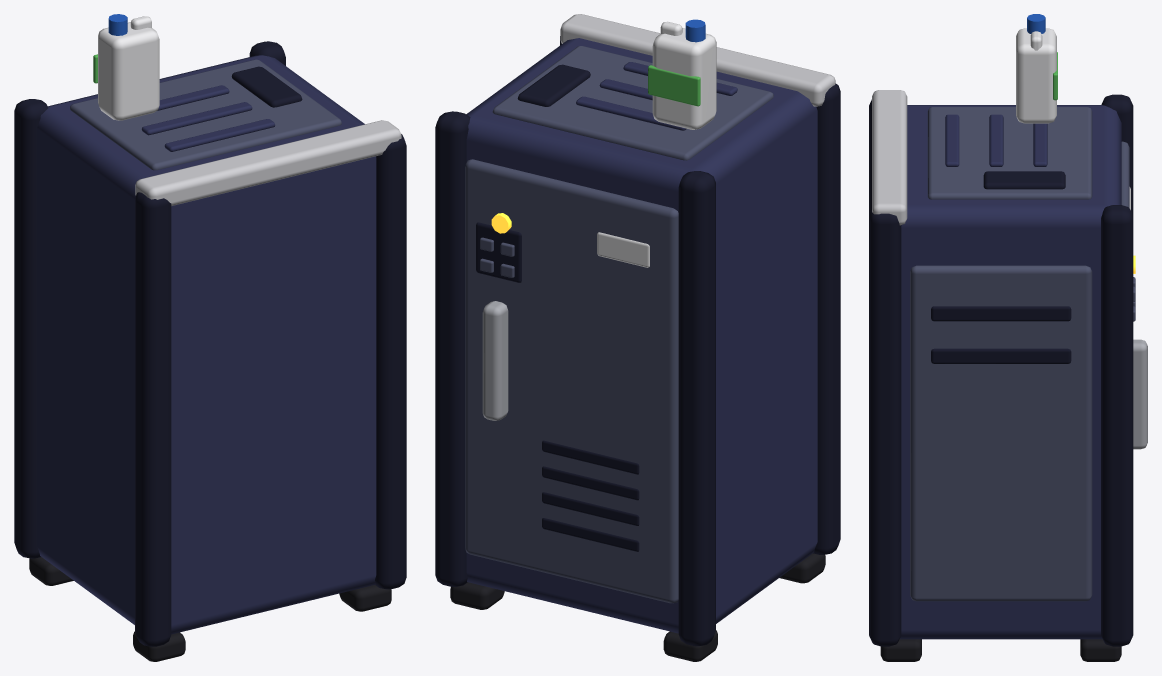
The model's file is prop.props_workrooms.hydro_locker.glb.
The picture shows the model from 3 angles, left to right: view 1: azimuth 30°, elevation 25°; view 2: azimuth 150°, elevation 25°; view 3: azimuth 270°, elevation 25°; orthographic projection. The views are drawn at different scales.
Visible parts, largest first — view 1: prop.props_workrooms.hydro_locker; view 2: prop.props_workrooms.hydro_locker; view 3: prop.props_workrooms.hydro_locker.
Part boxes in pixels (<box>): prop.props_workrooms.hydro_locker: <box>14,14,406,661</box>; prop.props_workrooms.hydro_locker: <box>435,14,840,661</box>; prop.props_workrooms.hydro_locker: <box>869,14,1147,661</box>.
Bounding box in the file's own units: 0.5 × 1.04 × 0.475.
